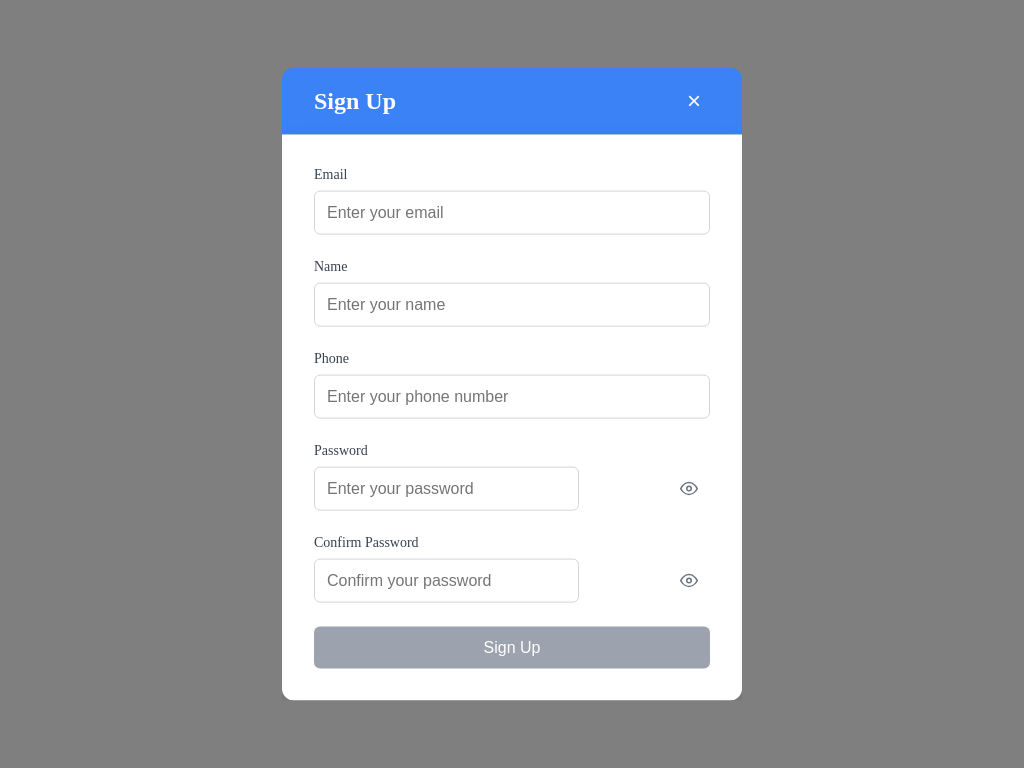
it: Signup modal › shows per-field validation messages only for non-empty invalid values
Step 1. Type "nope" into the field labelled "Email" → (512, 212), box [314,190,710,234]
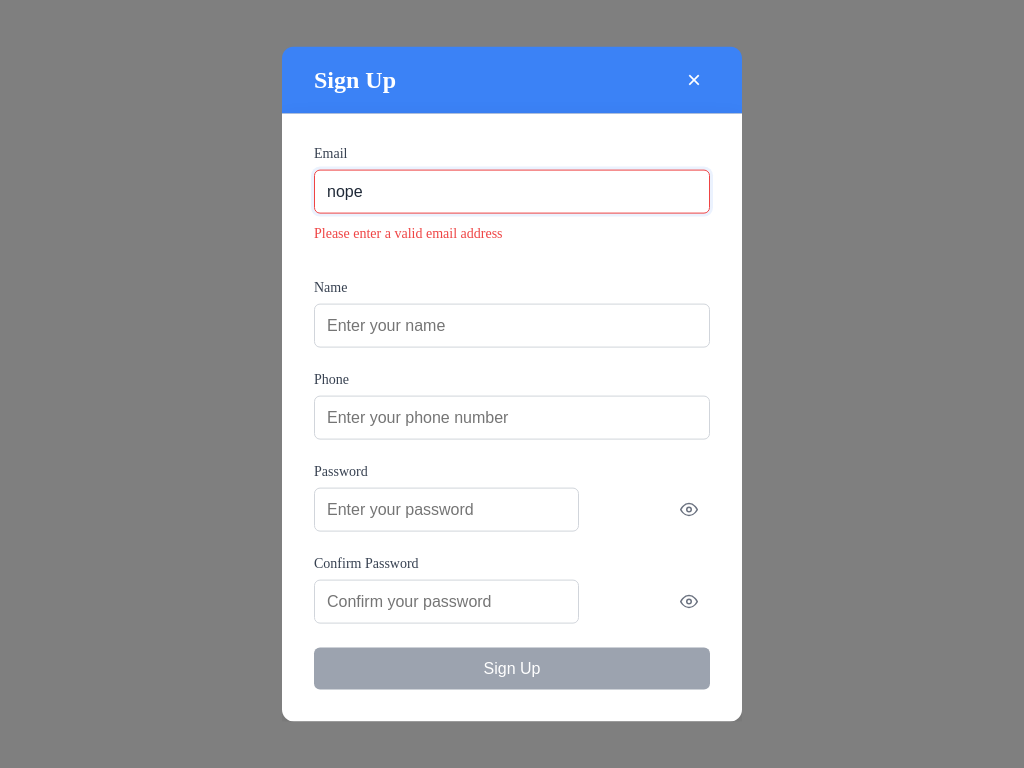
Expected: the text "Please enter a valid email address" is shown, [314,225,502,240]
Step 2. Type "bad * name" into the field labelled "Name" → (512, 325), box [314,303,710,347]
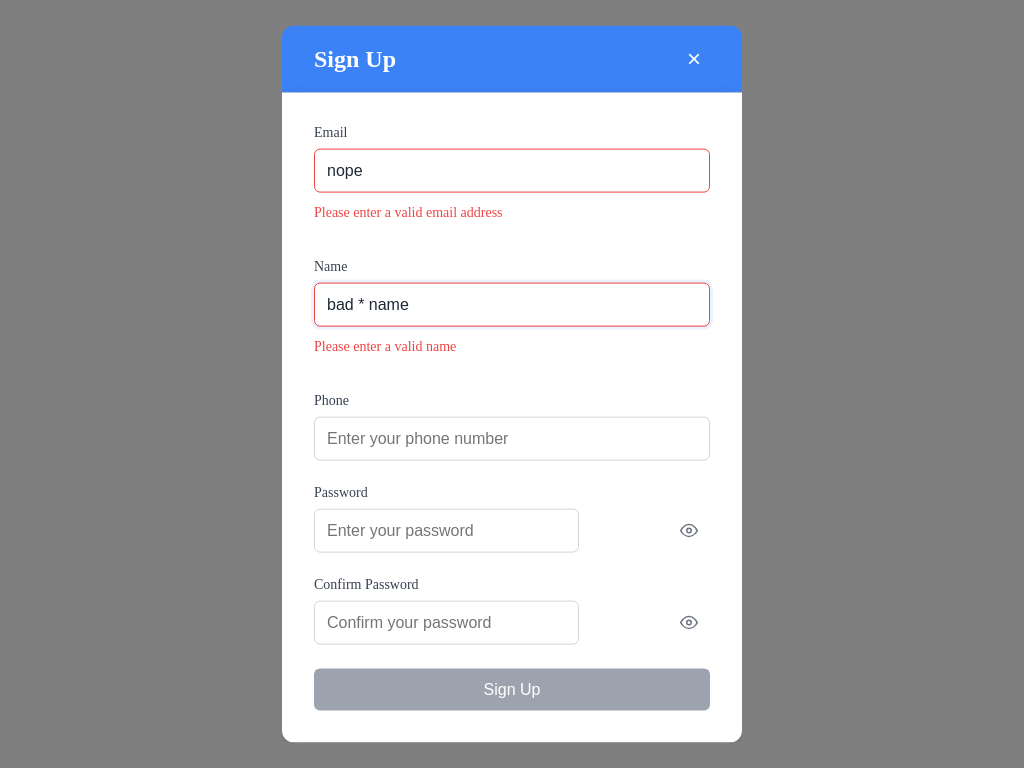
Expected: the text "Please enter a valid name" is shown, [314,338,456,353]
Step 3. Type "12345" into the field labelled "Phone" → (512, 438), box [314,416,710,460]
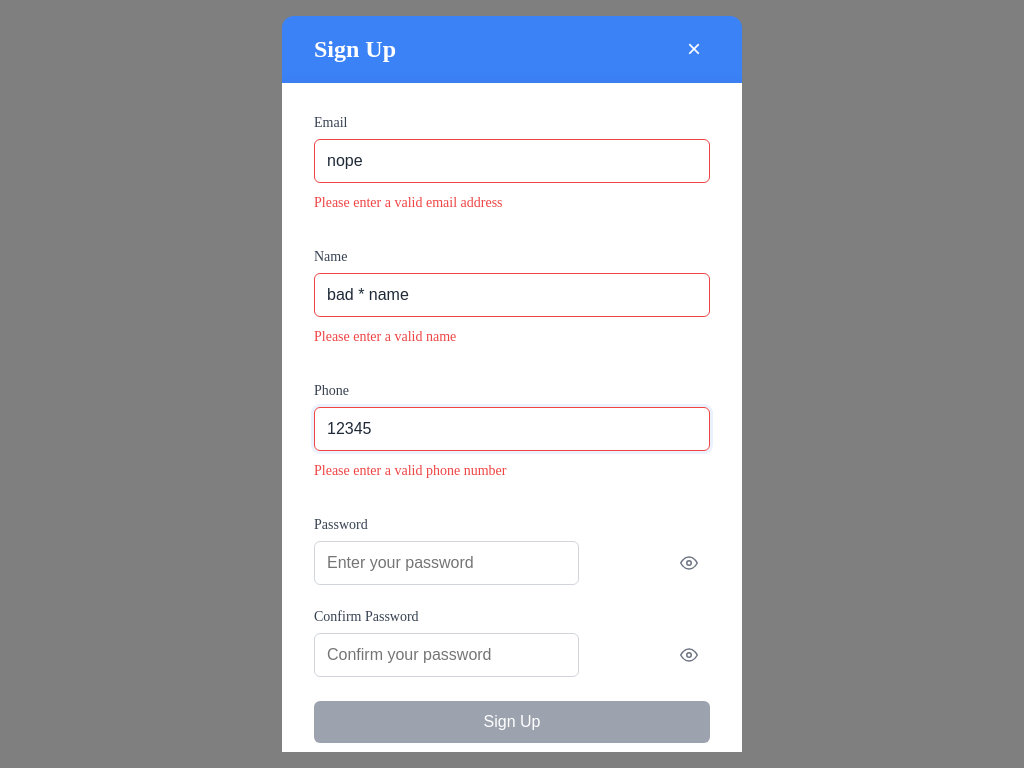
Expected: the text "Please enter a valid phone number" is shown, [314,463,506,478]
